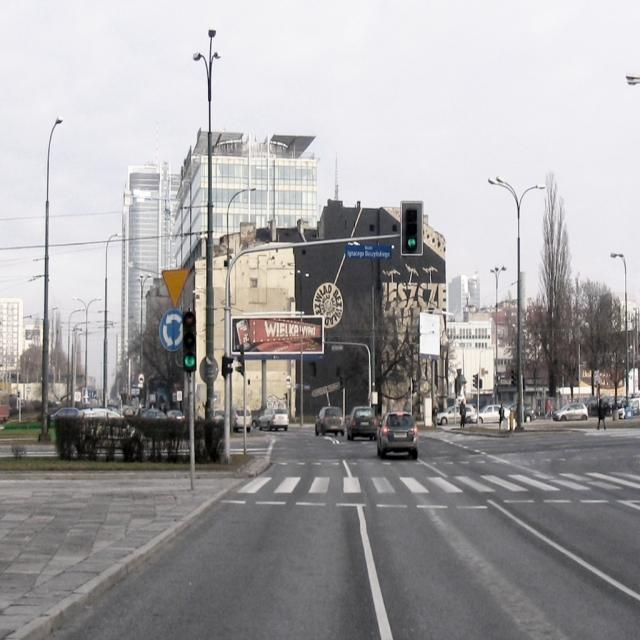off traffic light: (221, 355, 235, 379)
road_sign: (157, 308, 183, 353)
traffic light: (183, 311, 197, 373), (404, 207, 421, 255)
